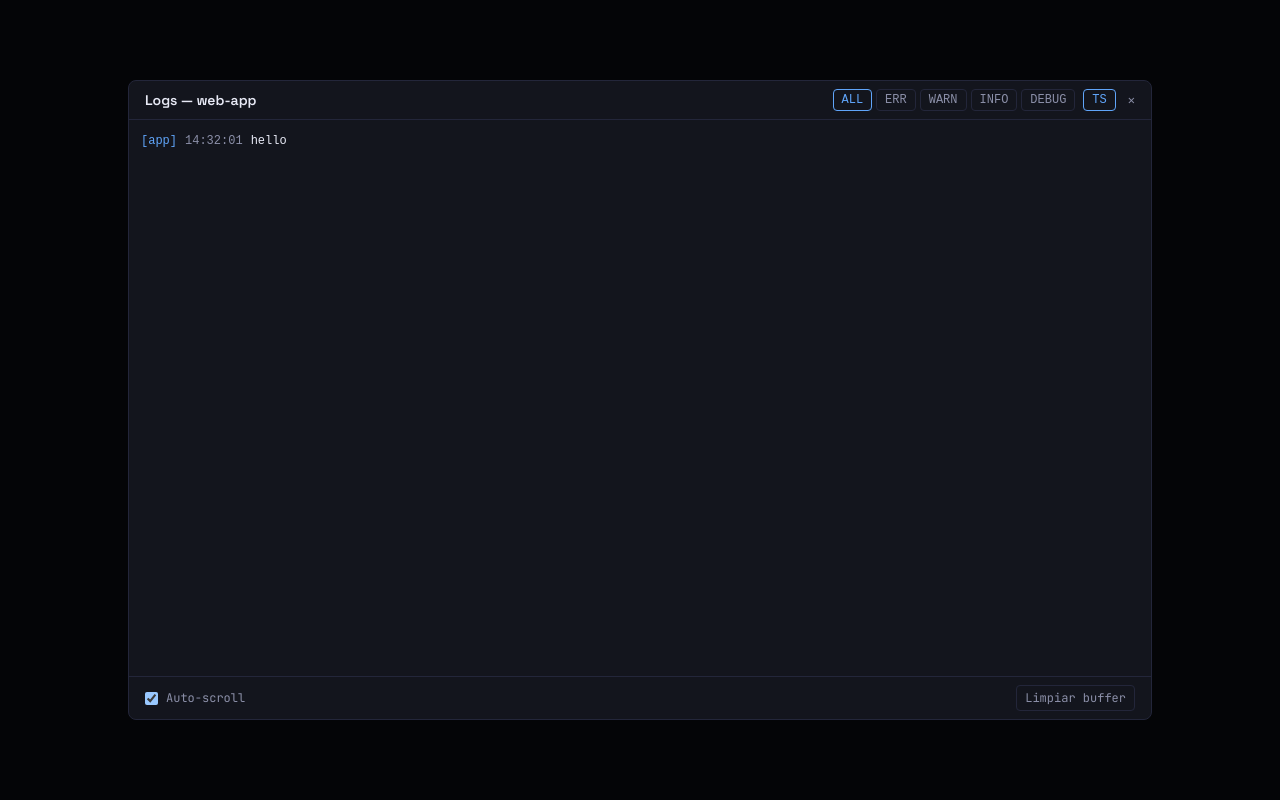
Test: LogsModal — toggle timestamps › oculta el timestamp al desactivar TS
This screenshot has width=1280, height=800.
Click the button with aria-label "toggle timestamps".
click(1100, 100)  # box [1083, 89, 1116, 111]
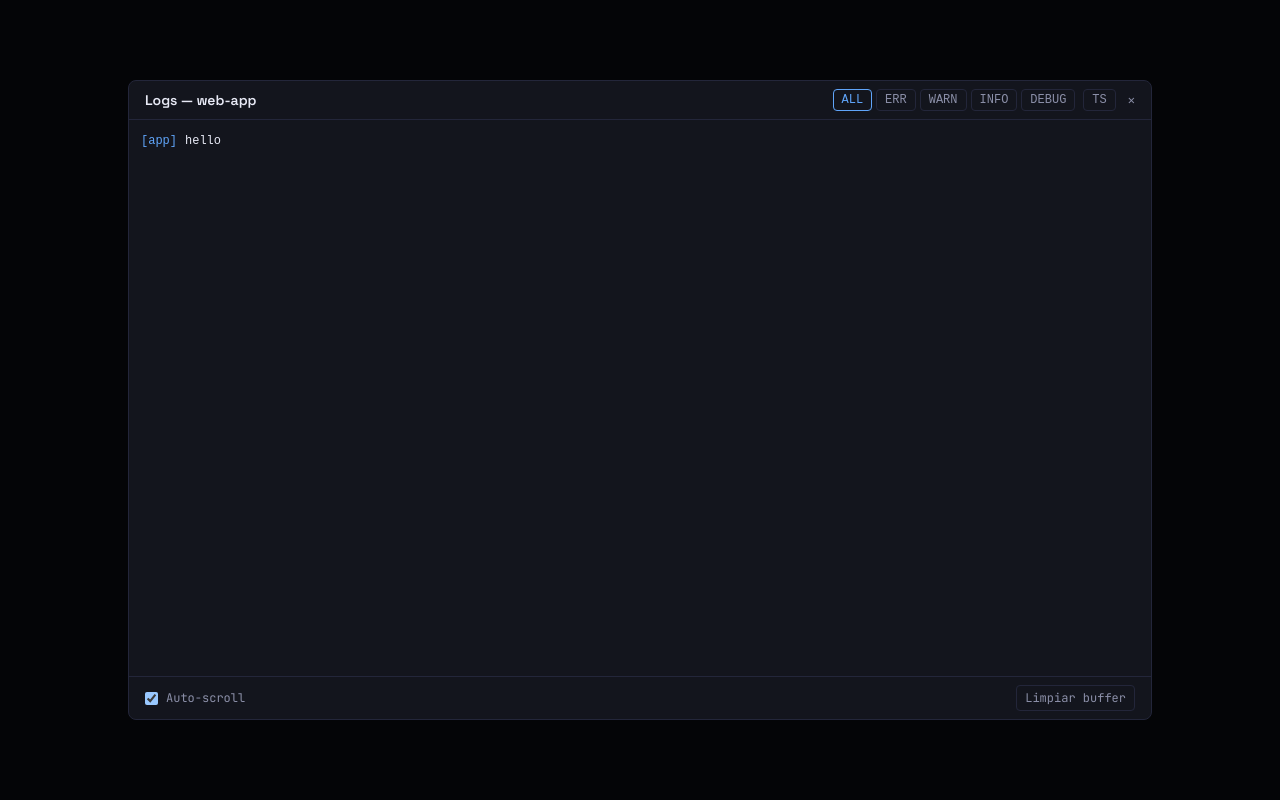
Expected: the text "hello" is shown, [185, 134, 221, 148]
Now the text "14:32:01" is gone
